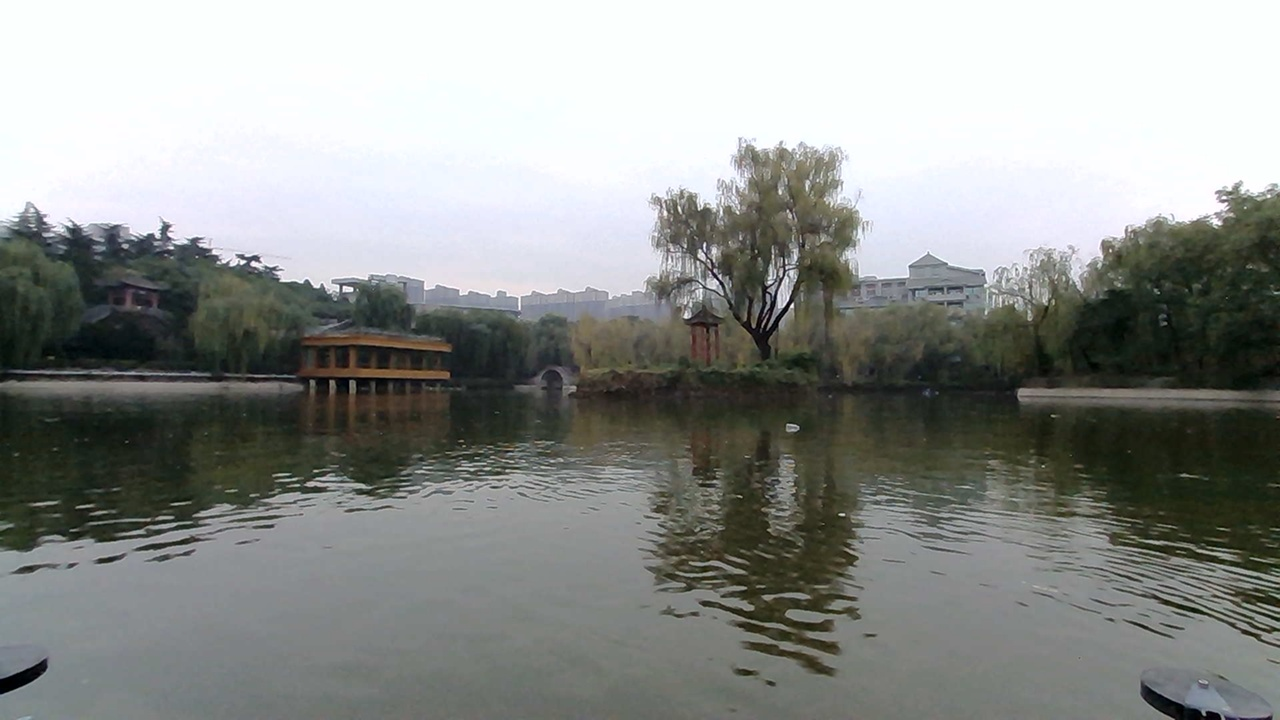bottle: (772, 407, 827, 439)
